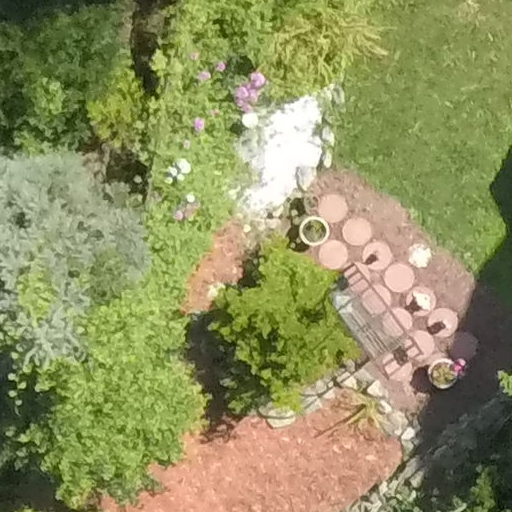container: (425, 355, 469, 397), (297, 210, 332, 249)
pot: (428, 349, 468, 399), (297, 213, 332, 257)
